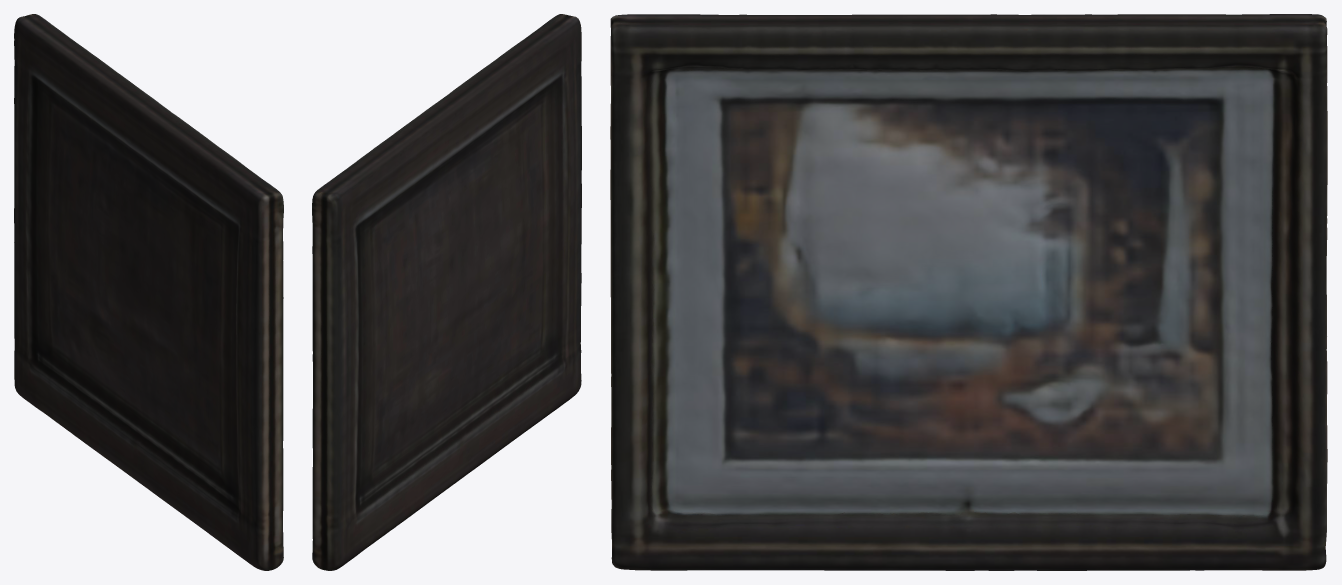
The model's file is ff18461faedf_high_resolution_pai.fbx.
The picture shows the model from 3 angles, left to right: view 1: azimuth 30°, elevation 25°; view 2: azimuth 150°, elevation 25°; view 3: azimuth 270°, elevation 25°; orthographic projection. The views are drawn at different scales.
Parts seen in each view (by area): view 1: high_poly; view 2: high_poly; view 3: high_poly.
Part boxes in pixels (left/top/right/bottom): high_poly: left=14, top=14, right=283, bottom=570; high_poly: left=312, top=14, right=581, bottom=570; high_poly: left=610, top=14, right=1327, bottom=570.
Size of the model in its own units: 7.15 by 83.92 by 100.
